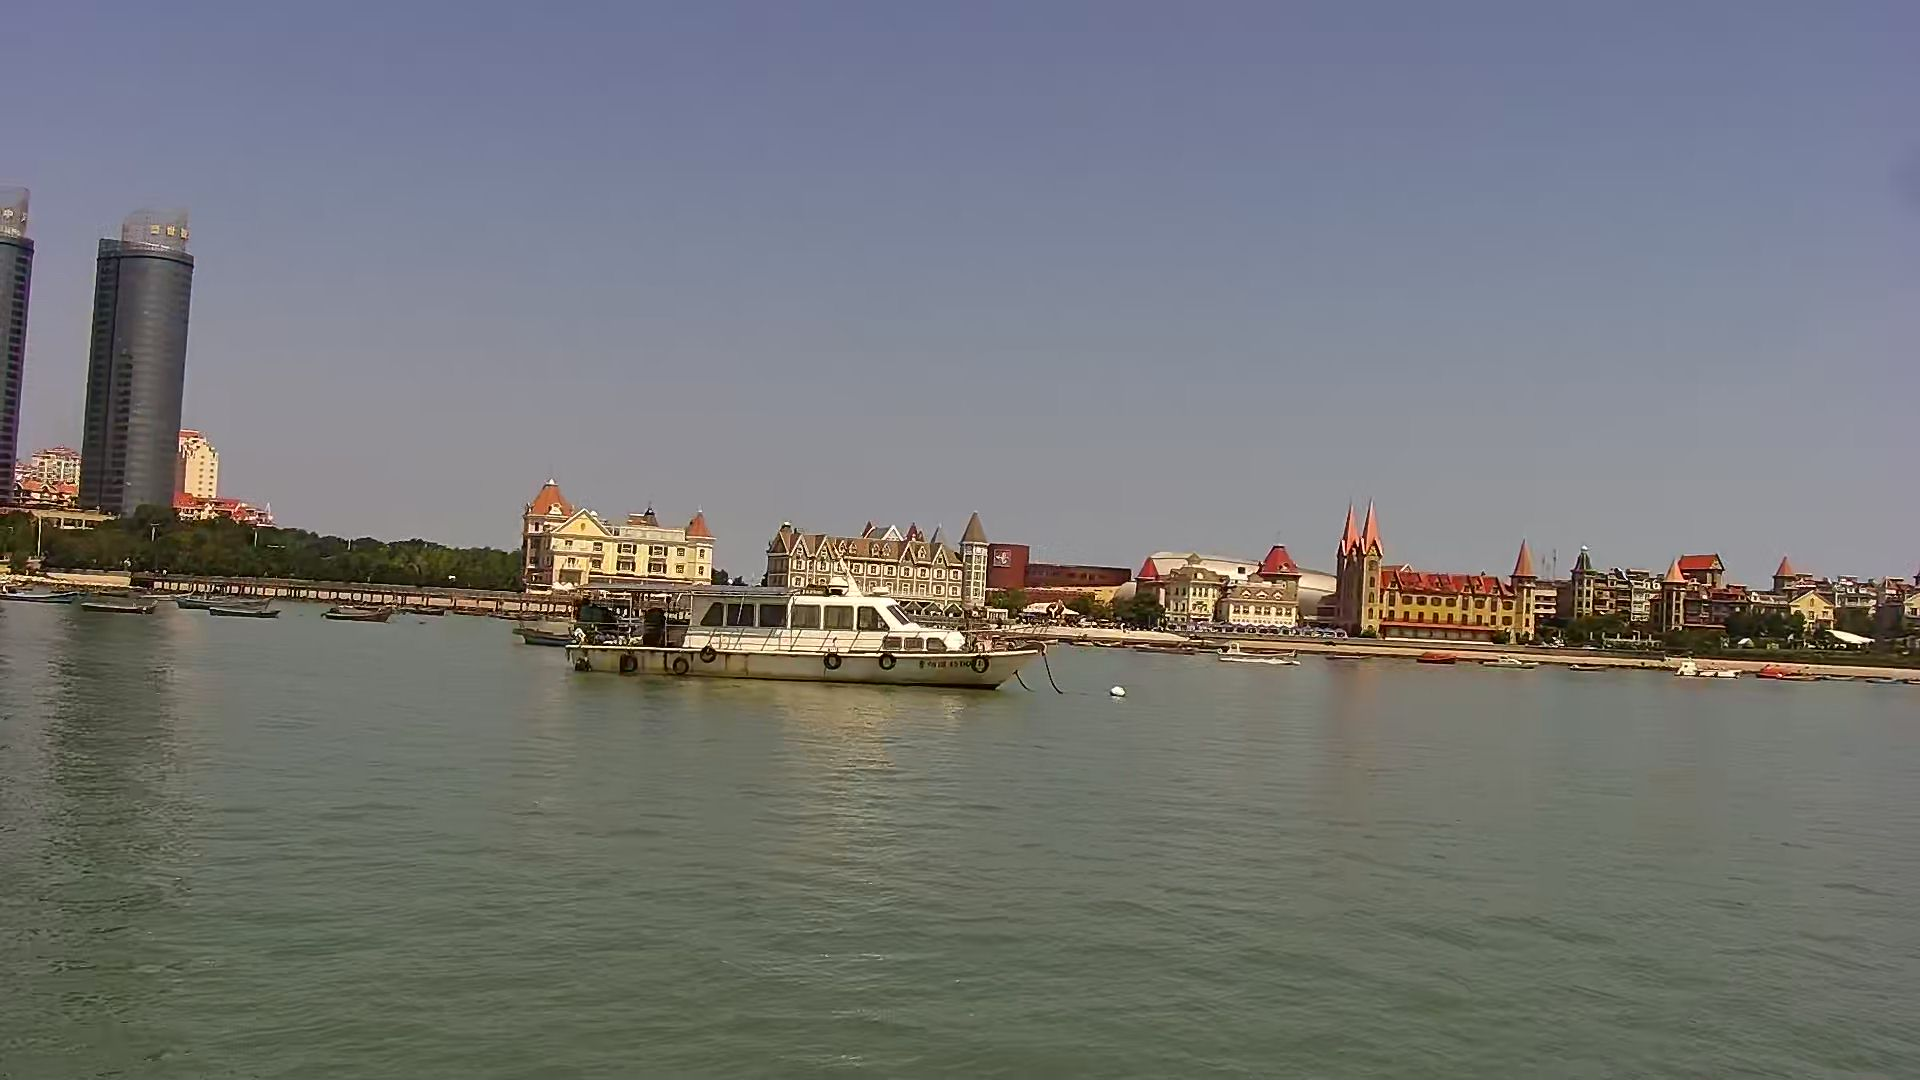ball: (1108, 683, 1129, 702)
boat: (175, 583, 280, 622), (323, 597, 400, 626), (3, 578, 75, 608), (508, 618, 574, 651), (74, 595, 160, 617)
ship: (567, 570, 1044, 694)
